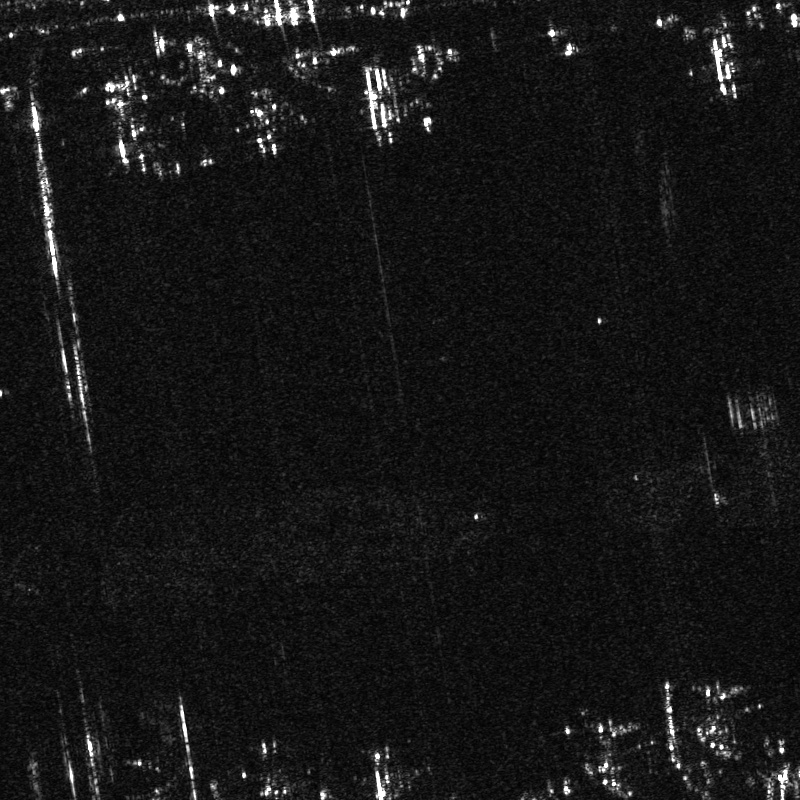A220: (565, 701, 645, 764), (683, 663, 750, 715)
Boeing737: (688, 26, 764, 101)
Boeing787: (231, 82, 305, 158), (159, 33, 236, 104)
